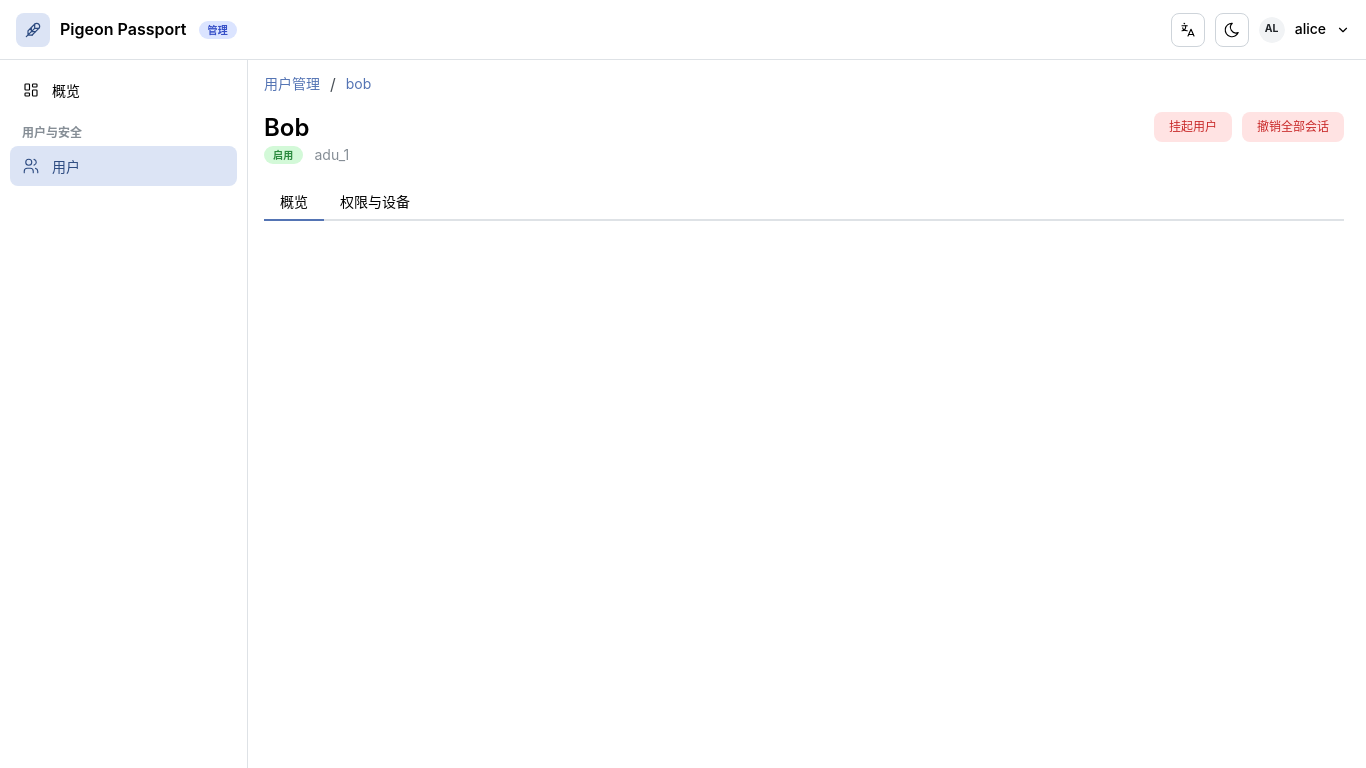
it: admin users page › completes passkey step-up and retries the rejected write
expect the heading "Bob" is shown: met, box [264, 113, 309, 142]
What coordinates should you click on to do the following:
click the button "挂起用户"
I would click on:
 (1193, 127)
Its box is [1154, 112, 1232, 142].
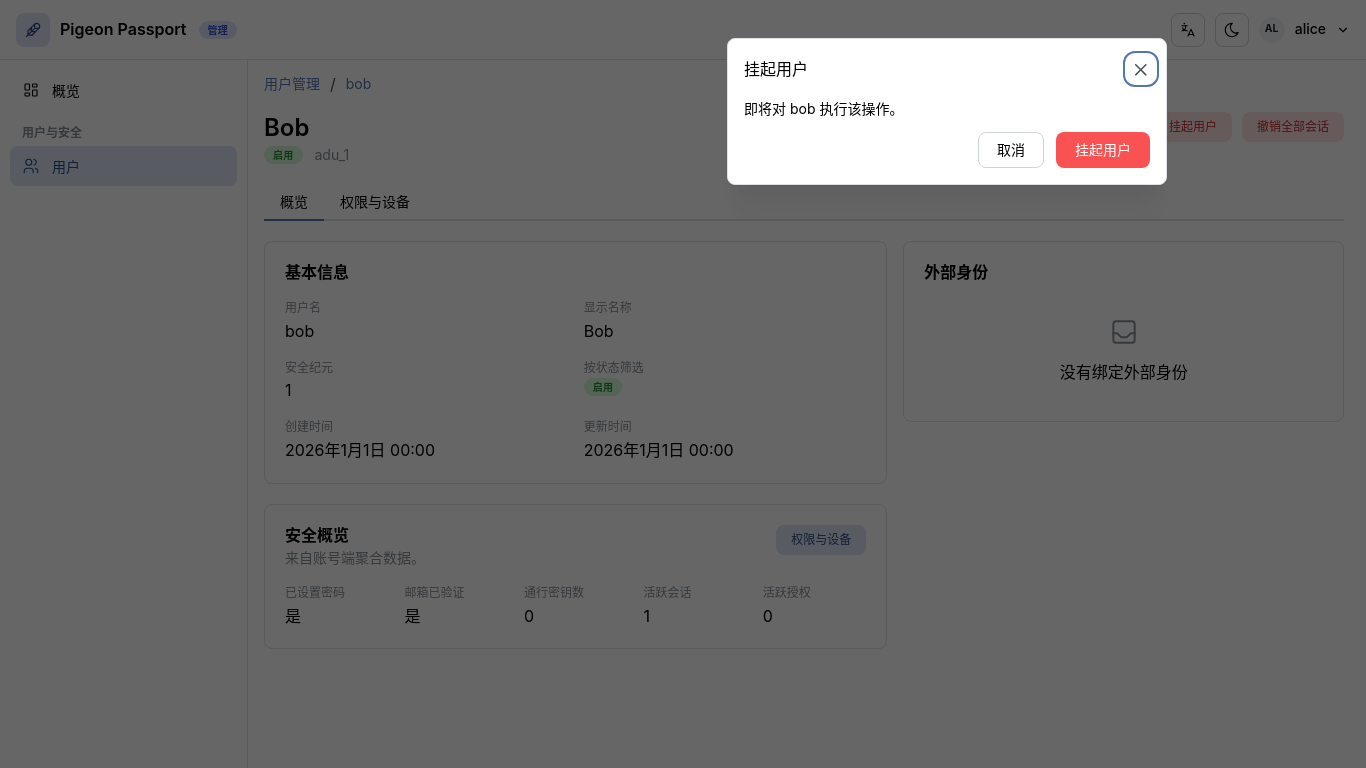
What coordinates should you click on to do the following:
click the button "挂起用户"
I would click on:
 (1103, 150)
Its box is [1056, 132, 1150, 168].
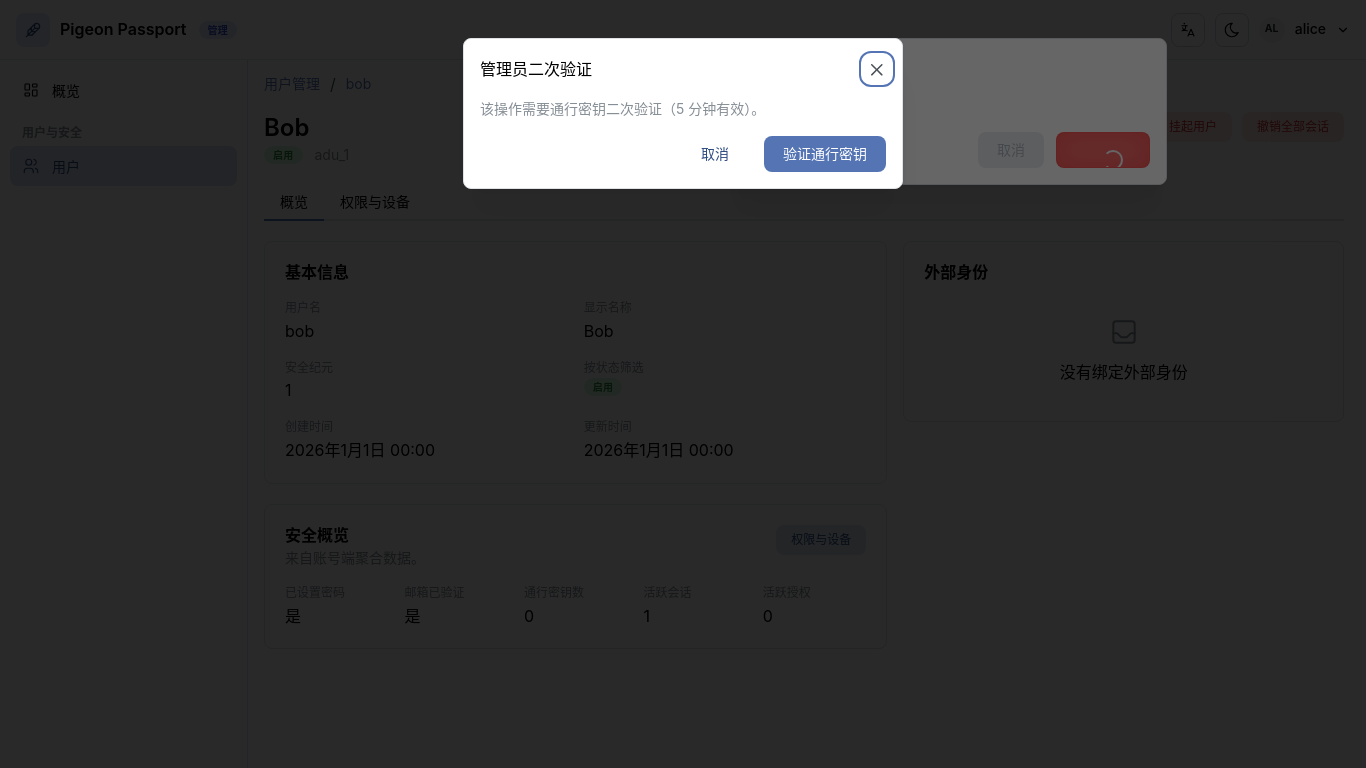
expect the heading "管理员二次验证" is shown: met, box [480, 61, 592, 77]
What coordinates should you click on to do the following:
click the button "验证通行密钥"
I would click on:
 (825, 154)
Its box is [764, 136, 886, 172].
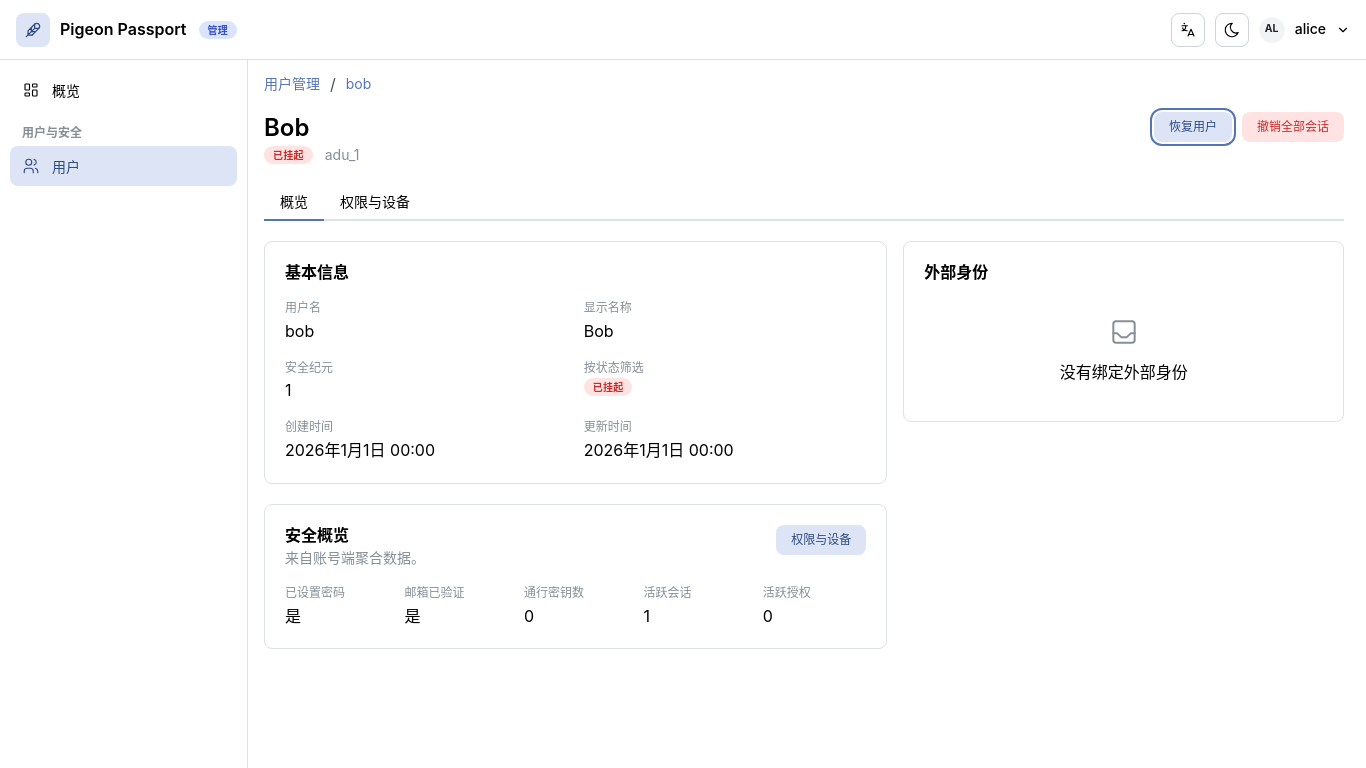
expect the button "恢复用户" is shown: met, box [1154, 112, 1232, 142]
